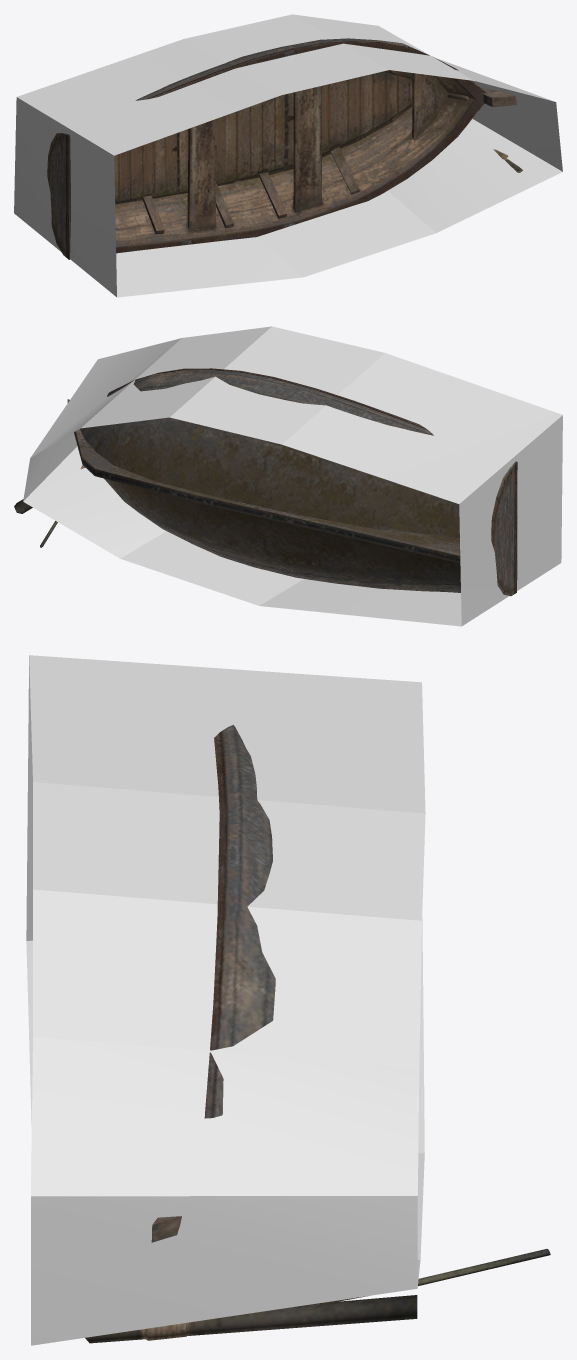
The model's file is hd_env020_Boat_06.glb.
The picture shows the model from 3 angles, top to bottom: view 1: azimuth 30°, elevation 25°; view 2: azimuth 150°, elevation 25°; view 3: azimuth 270°, elevation 25°; orthographic projection. The views are drawn at different scales.
Visible parts, largest first — view 1: set_0_group_0, set_0_group_1; view 2: set_0_group_0, set_0_group_1; view 3: set_0_group_0, set_0_group_1.
Boxes of the visible parts, x1,y1,x2,y2 form: set_0_group_0: (14, 14, 562, 297); set_0_group_1: (47, 38, 522, 259); set_0_group_0: (23, 326, 562, 626); set_0_group_1: (14, 368, 517, 596); set_0_group_0: (26, 655, 425, 1345); set_0_group_1: (85, 725, 550, 1343).
Bounding box in the file's own units: 4.54 × 1.8 × 2.28.
Materials: 2 (1 with a texture image).
